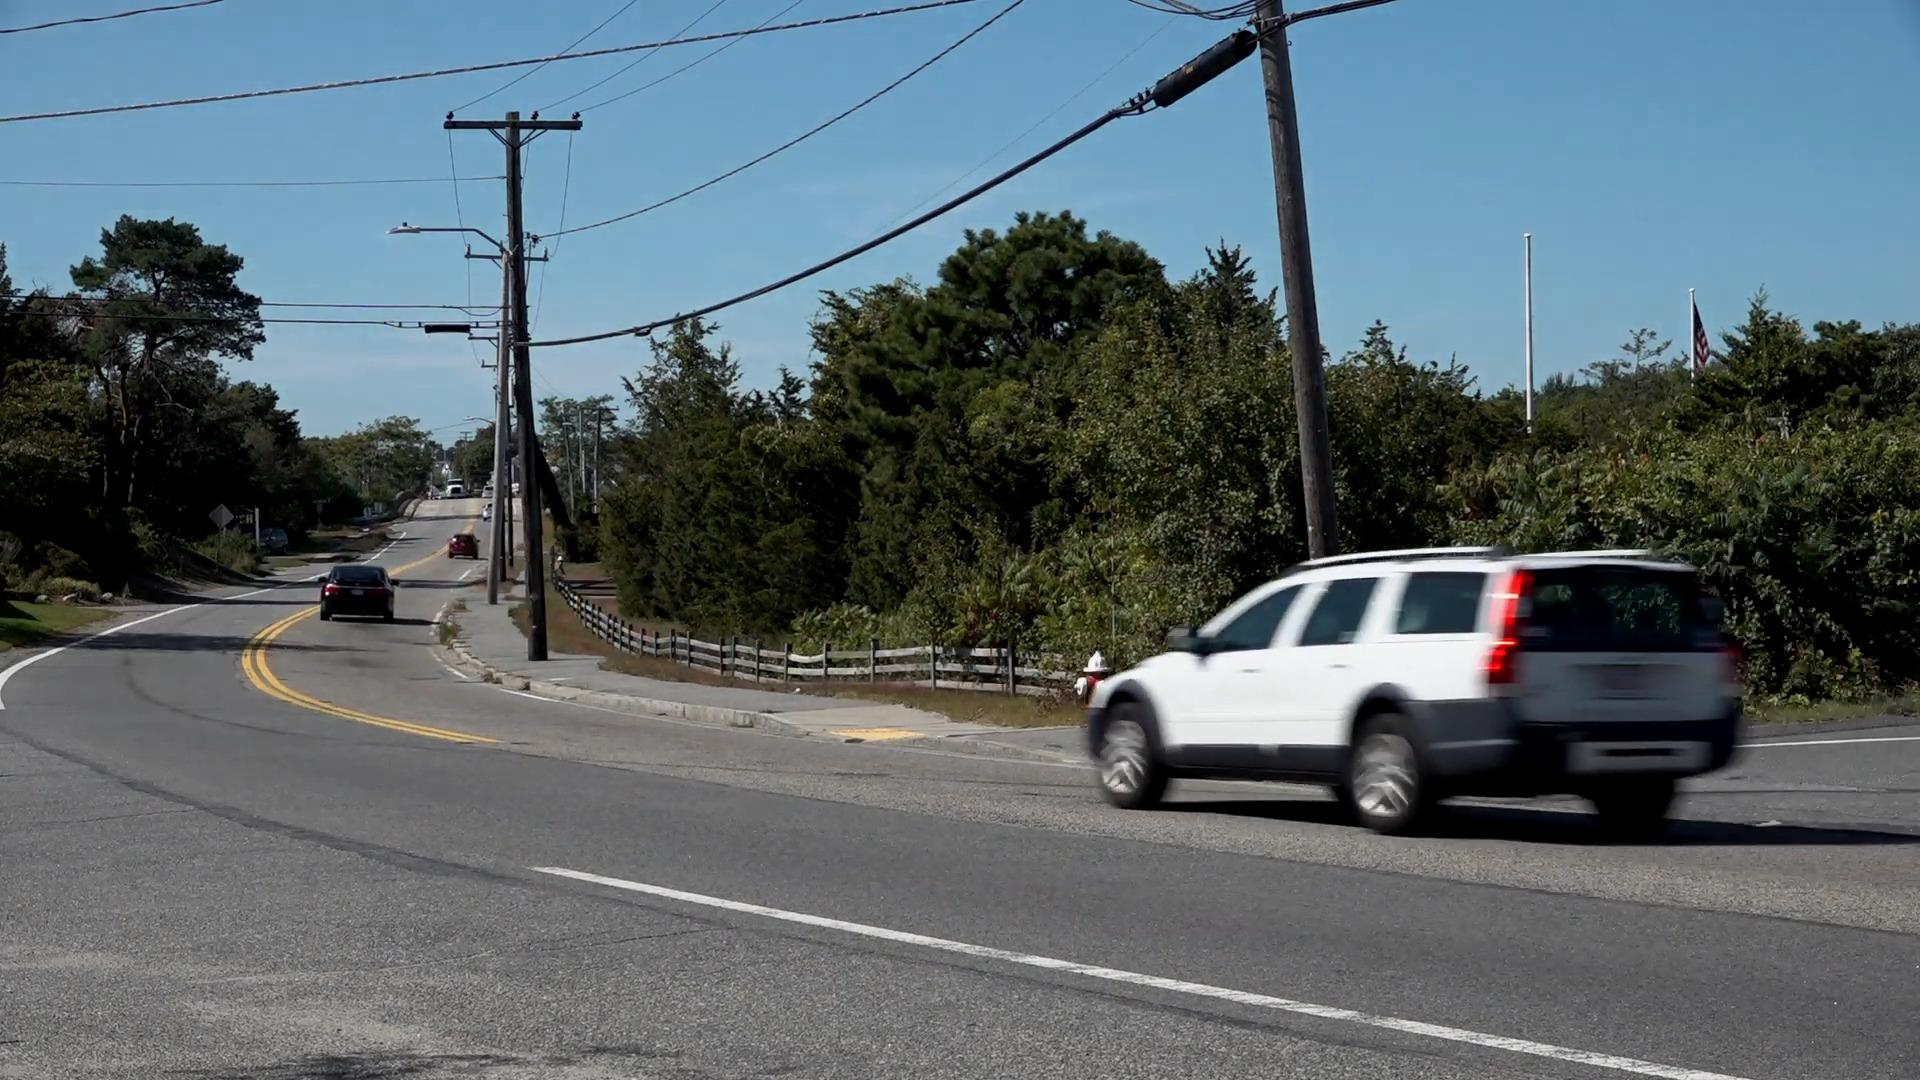sedans: (1079, 551, 1754, 822), (310, 554, 401, 630)
